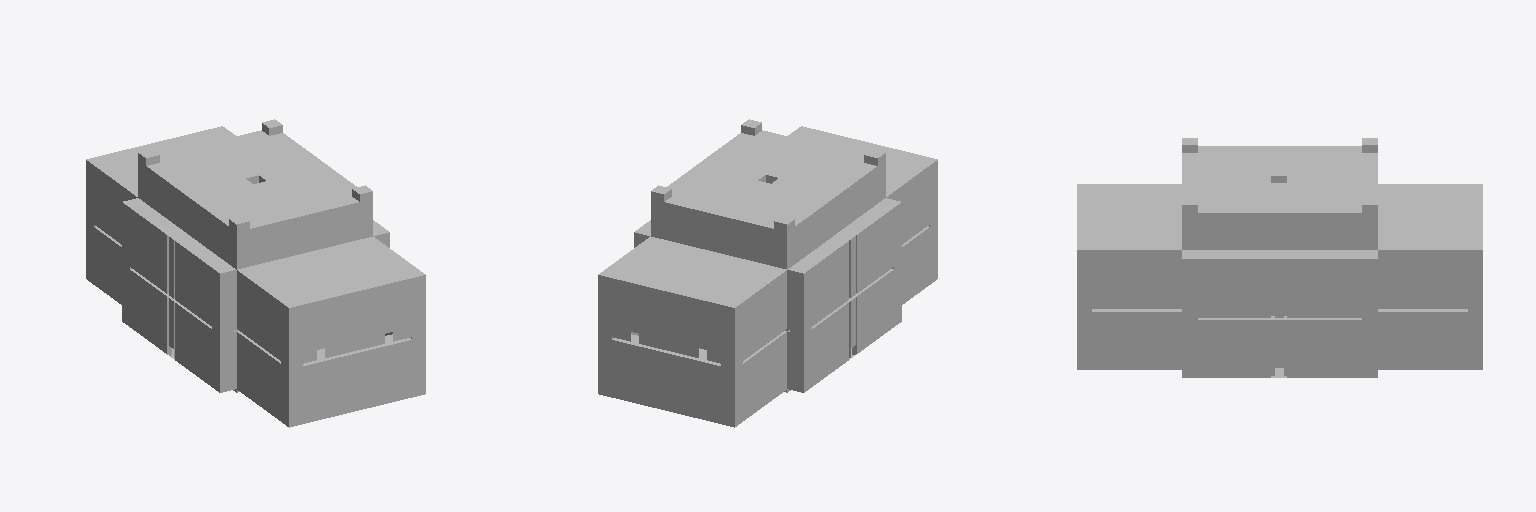
Rendered from Room_test.obj.
3 renders of one model, left to right at view 1: azimuth 30°, elevation 25°; view 2: azimuth 150°, elevation 25°; view 3: azimuth 270°, elevation 25°, orthographic.
Parts seen in each view (by area): view 1: pCube1; view 2: pCube1; view 3: pCube1.
Boxes of the visible parts, x1=… form: pCube1: x1=86, y1=119, x2=425, y2=427; pCube1: x1=598, y1=119, x2=937, y2=427; pCube1: x1=1077, y1=138, x2=1482, y2=377.
Size of the model in its own units: 51.71 by 48.86 by 107.